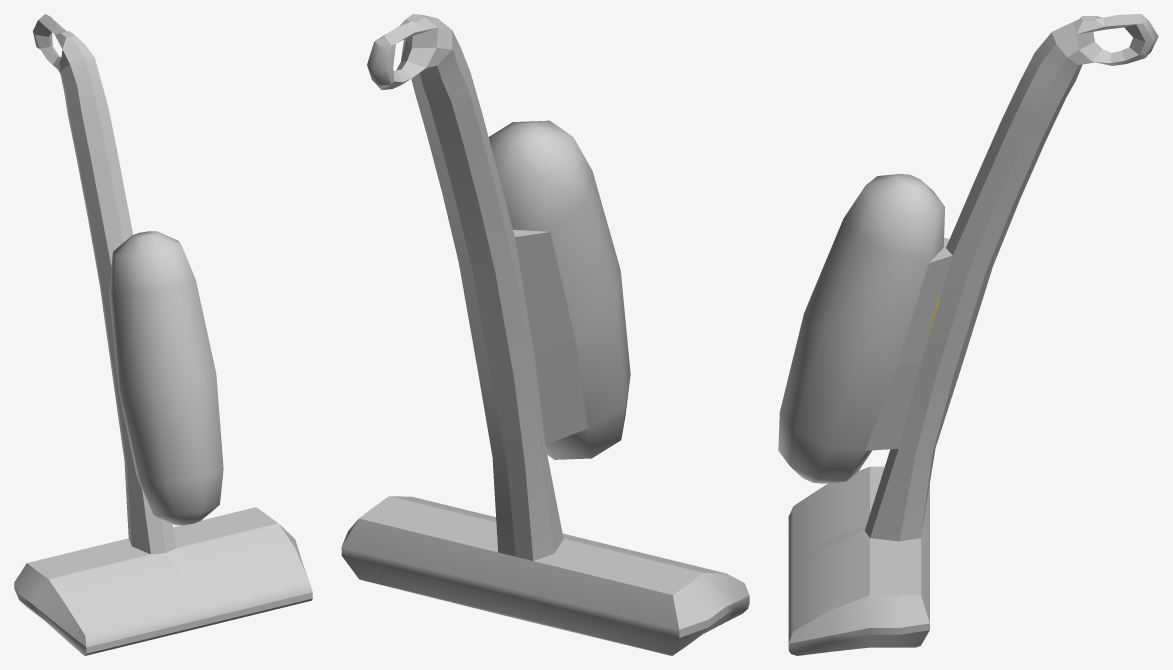
The model's file is VacuumCleaner.fbx.
3 views of the same model, side by side, from view 1: azimuth 30°, elevation 25°; view 2: azimuth 150°, elevation 25°; view 3: azimuth 270°, elevation 25° (orthographic). The views are drawn at different scales.
Parts seen in each view (by area): view 1: VacuumCleaner_Body, VacuumCleaner_Stash; view 2: VacuumCleaner_Body, VacuumCleaner_Stash; view 3: VacuumCleaner_Body, VacuumCleaner_Stash.
Part boxes in pixels (x1=…): VacuumCleaner_Body: x1=14, y1=14, x2=312, y2=655; VacuumCleaner_Stash: x1=109, y1=231, x2=223, y2=525; VacuumCleaner_Body: x1=341, y1=14, x2=749, y2=655; VacuumCleaner_Stash: x1=488, y1=120, x2=630, y2=459; VacuumCleaner_Body: x1=788, y1=14, x2=1158, y2=655; VacuumCleaner_Stash: x1=778, y1=173, x2=952, y2=483.
Bounding box in the file's own units: 207 × 379 × 226.
